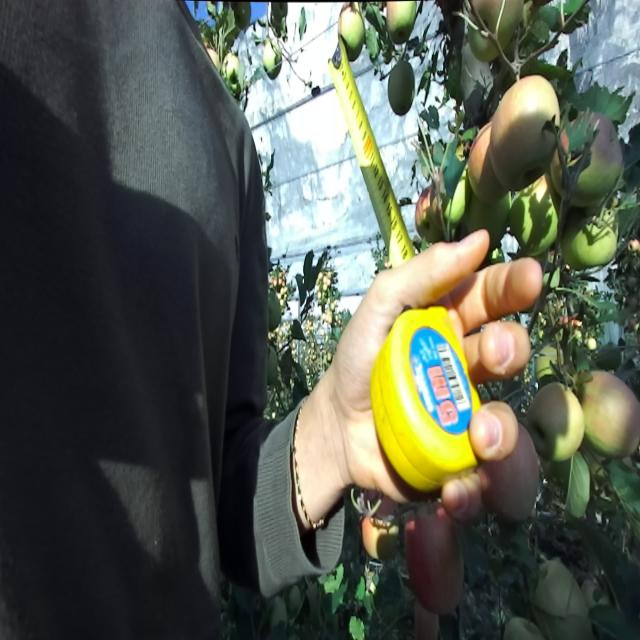apple: (490, 75, 560, 191), (552, 111, 622, 206), (406, 510, 463, 615), (580, 370, 640, 460), (479, 446, 540, 520), (530, 382, 584, 460), (509, 182, 560, 251), (530, 558, 588, 618), (469, 0, 524, 62), (468, 121, 505, 200), (562, 216, 618, 268), (469, 193, 511, 236), (362, 516, 399, 561), (446, 148, 467, 222), (388, 62, 415, 116), (338, 6, 365, 59), (387, 0, 416, 44), (414, 188, 436, 238), (535, 344, 563, 378), (504, 617, 539, 640), (262, 40, 282, 80), (222, 52, 240, 92), (269, 290, 281, 330), (234, 4, 252, 28), (268, 344, 277, 386), (271, 0, 289, 21), (208, 47, 221, 72)
